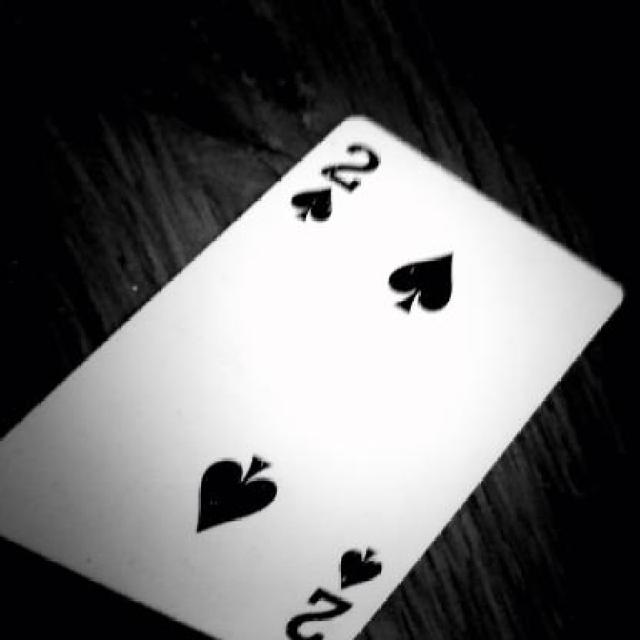2S: (288, 514, 398, 640), (280, 123, 385, 229)
